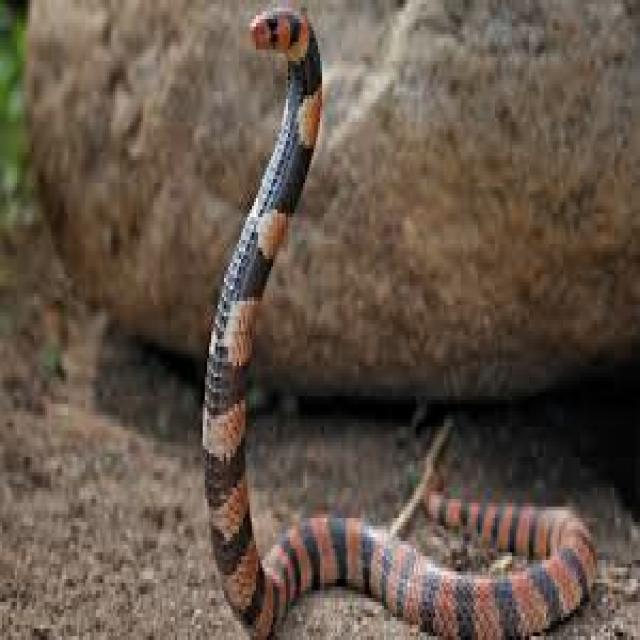snake: (205, 4, 593, 636)
